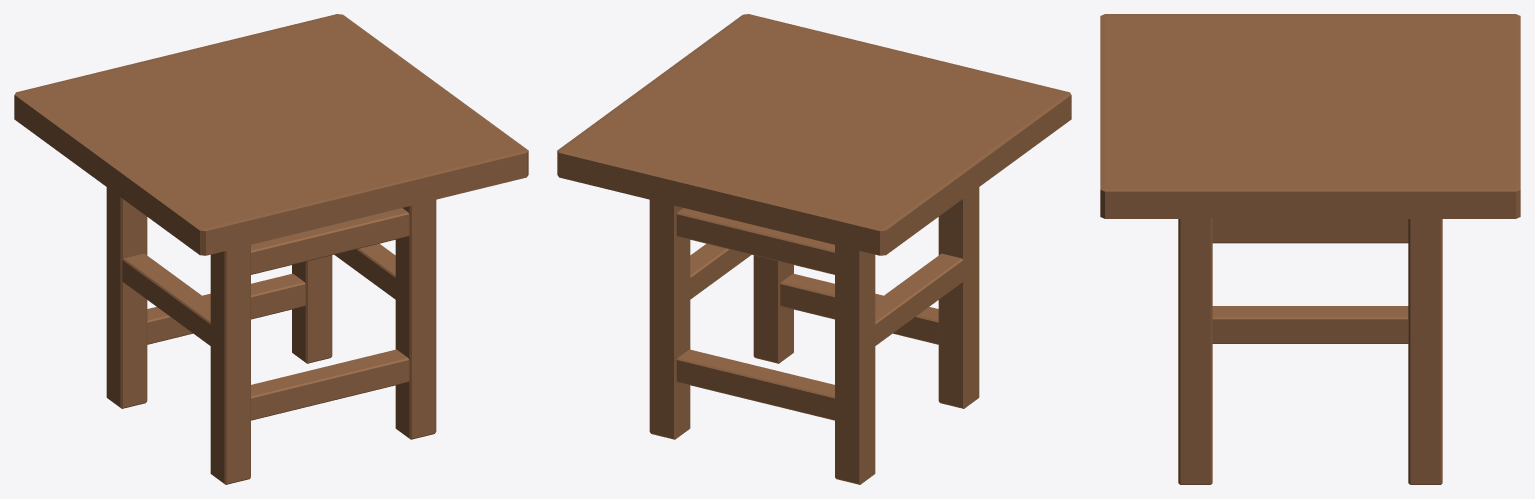
The model's file is radio_table.fbx.
3 views of the same model, side by side, from view 1: azimuth 30°, elevation 25°; view 2: azimuth 150°, elevation 25°; view 3: azimuth 270°, elevation 25° (orthographic). The views are drawn at different scales.
Visible parts, largest first — view 1: Cube.007, Cube, Cube.001, Cube.003, Cube.002; view 2: Cube.007, Cube, Cube.001, Cube.003, Cube.002; view 3: Cube.007, Cube, Cube.003.
Boxes of the visible parts, x1,y1,x2,y2 form: Cube.007: [14, 14, 528, 255]; Cube: [106, 187, 436, 484]; Cube.001: [147, 273, 409, 420]; Cube.003: [122, 243, 395, 345]; Cube.002: [251, 208, 409, 274]; Cube.007: [557, 14, 1071, 255]; Cube: [649, 187, 979, 484]; Cube.001: [676, 273, 938, 420]; Cube.003: [690, 243, 963, 345]; Cube.002: [676, 208, 834, 274]; Cube.007: [1100, 14, 1520, 218]; Cube: [1178, 219, 1442, 484]; Cube.003: [1212, 219, 1408, 343].
Size of the model in its own units: 602 by 515 by 602.
